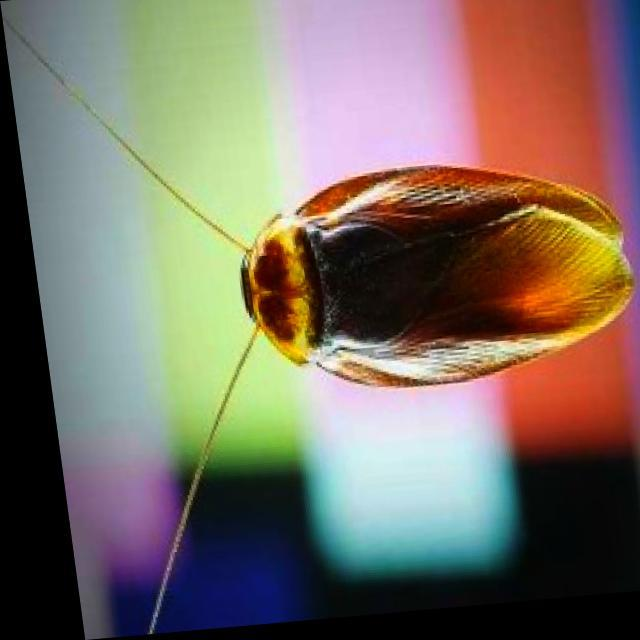cockroach: (238, 161, 635, 391)
